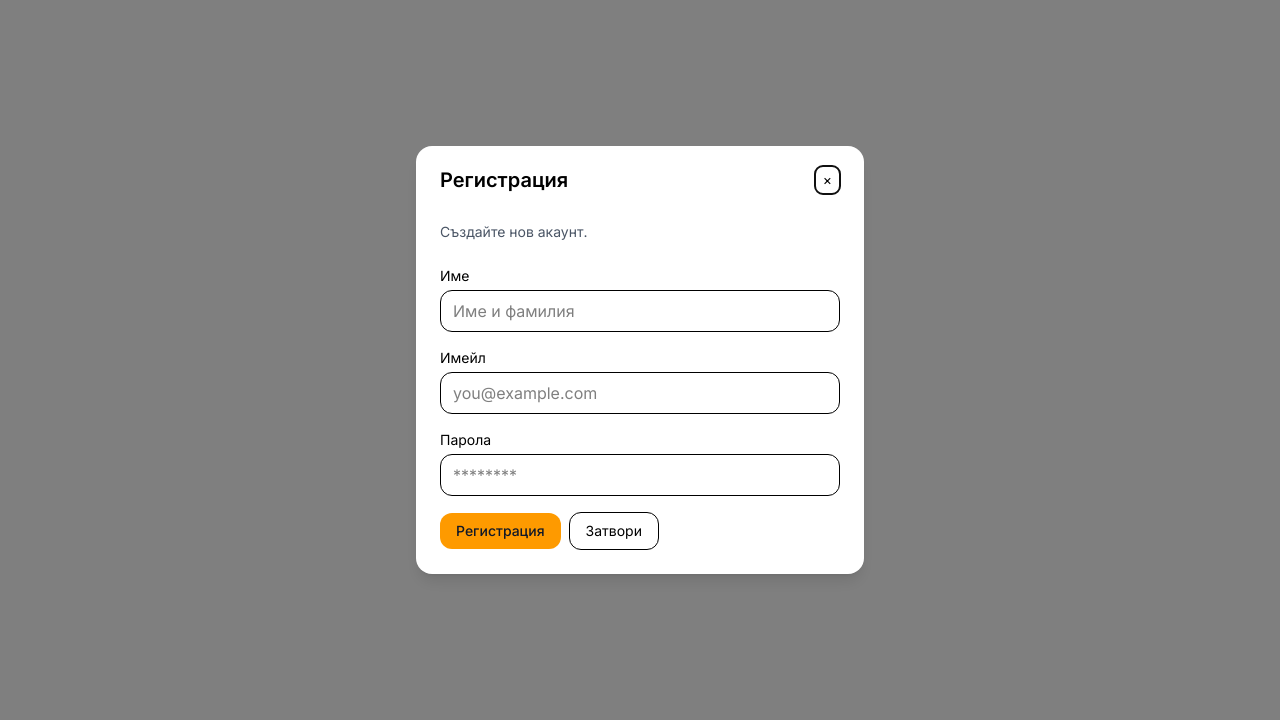
Test: Registration Flow › should show error when password is missing
In the field labelled "Име": (640, 311) [440,290,840,332], type "Test User"
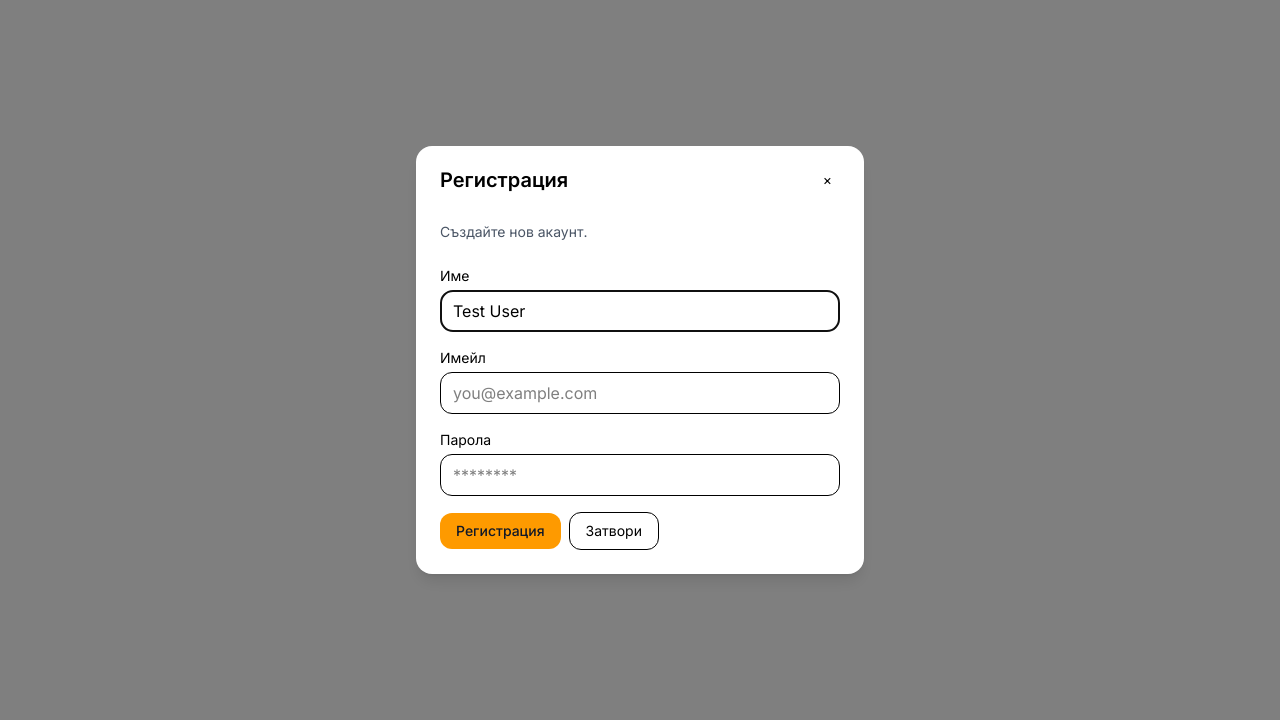
In the field labelled "Имейл": (640, 393) [440,372,840,414], type "test@example.com"
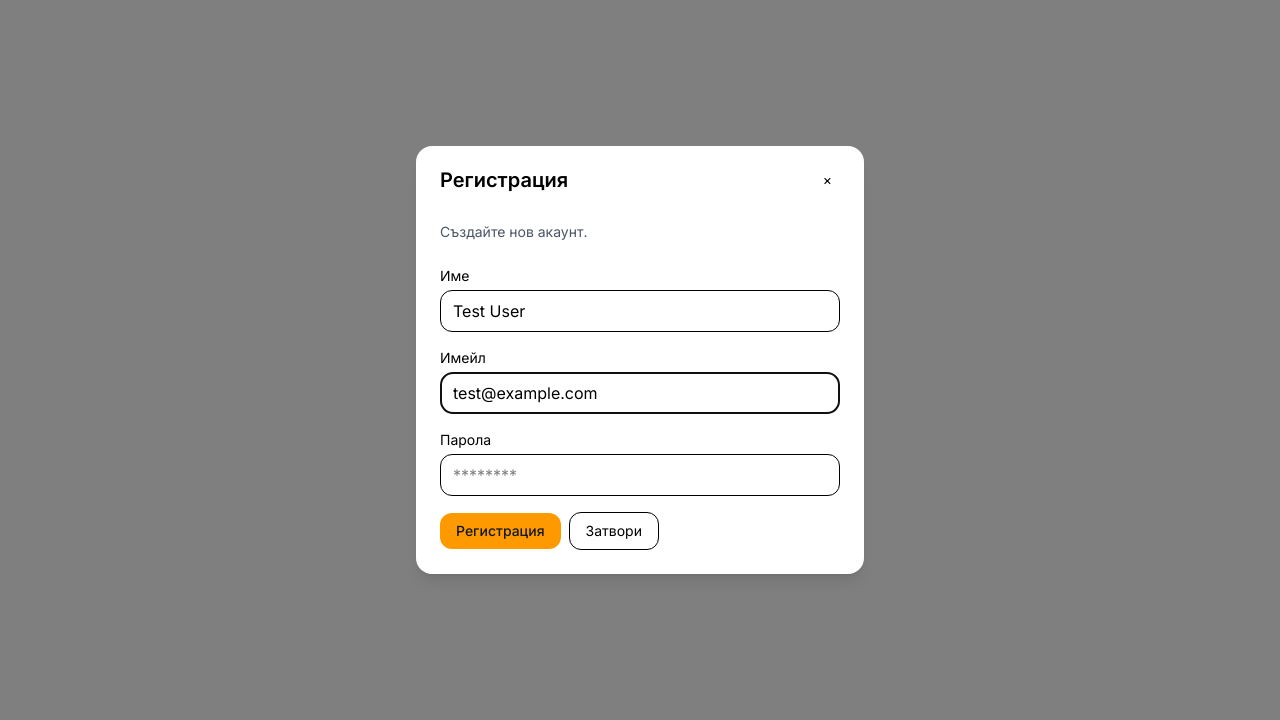
Click the button "Регистрация": click(500, 531) [440,513,561,549]
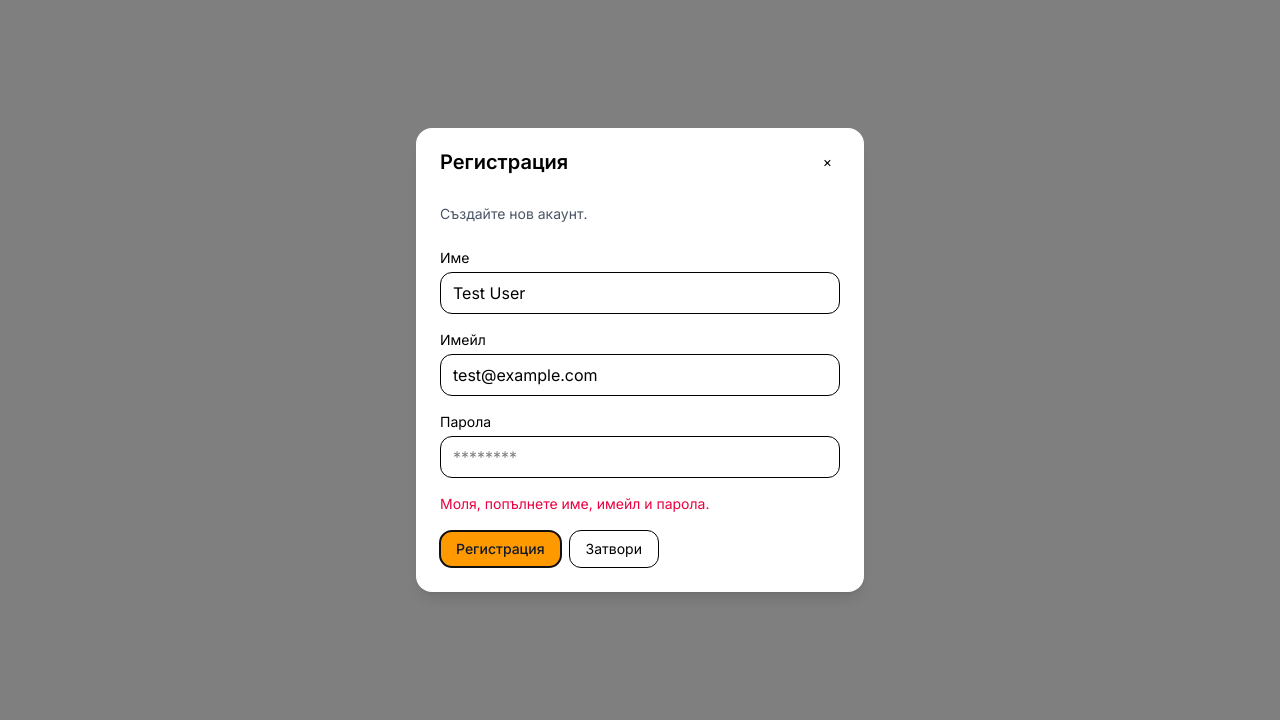
Now the text "Моля, попълнете име, имейл и парола." is shown, box [440,495,709,512]
